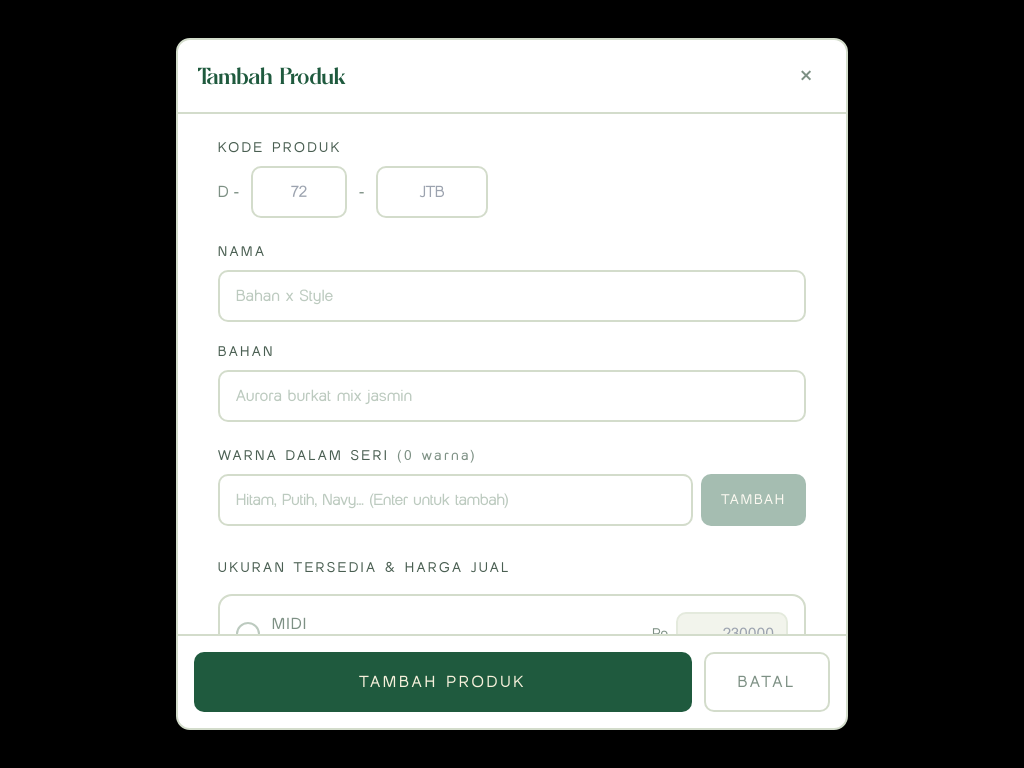
Test: ProductForm › kode produk › input kodeAngka strips non-digit
In the field with placeholder "72": (299, 192) top-left (251, 166), bottom-right (347, 218), type "abc72"
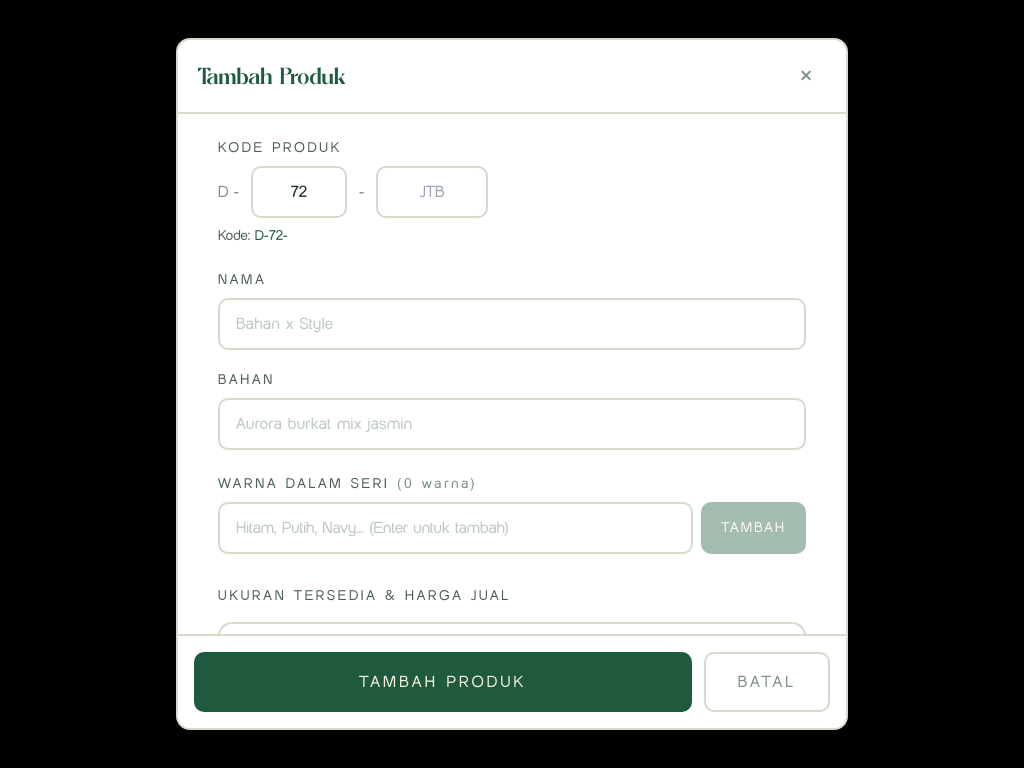
Expected: the field with placeholder "72" holds "72", top-left (251, 166), bottom-right (347, 218)
